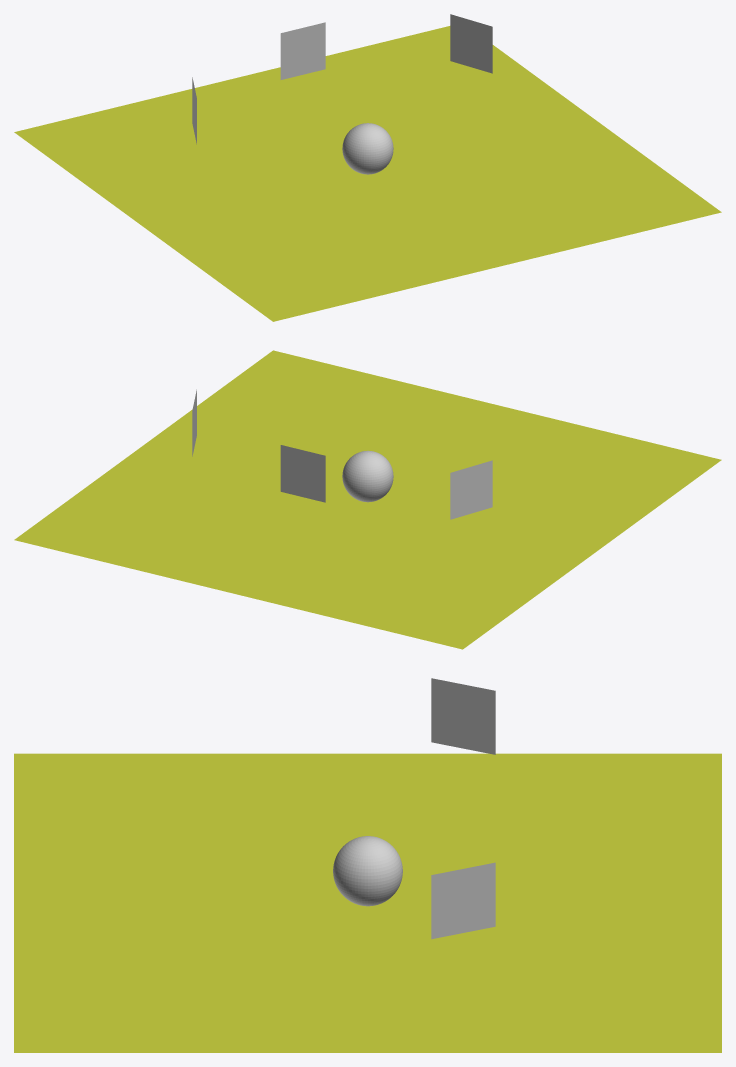
File: sphere-3-lights.obj
The picture shows the model from 3 angles, top to bottom: view 1: azimuth 30°, elevation 25°; view 2: azimuth 150°, elevation 25°; view 3: azimuth 270°, elevation 25°; orthographic projection. The views are drawn at different scales.
Parts seen in each view (by area): view 1: Plane, Light3, Sphere, Light1; view 2: Plane, Light3, Sphere, Light2; view 3: Plane, Light2, Light1, Sphere.
Part boxes in pixels (x1=…): Plane: x1=14, y1=26, x2=721, y2=321; Light3: x1=280, y1=22, x2=325, y2=79; Sphere: x1=342, y1=123, x2=393, y2=174; Light1: x1=450, y1=14, x2=492, y2=73; Plane: x1=14, y1=350, x2=721, y2=649; Light3: x1=280, y1=445, x2=325, y2=502; Sphere: x1=342, y1=450, x2=393, y2=502; Light2: x1=450, y1=460, x2=492, y2=519; Plane: x1=14, y1=753, x2=721, y2=1052; Light2: x1=431, y1=678, x2=495, y2=754; Light1: x1=431, y1=862, x2=495, y2=939; Sphere: x1=333, y1=836, x2=402, y2=906.
Bounding box in the file's own units: 20 × 4.14 × 20.
